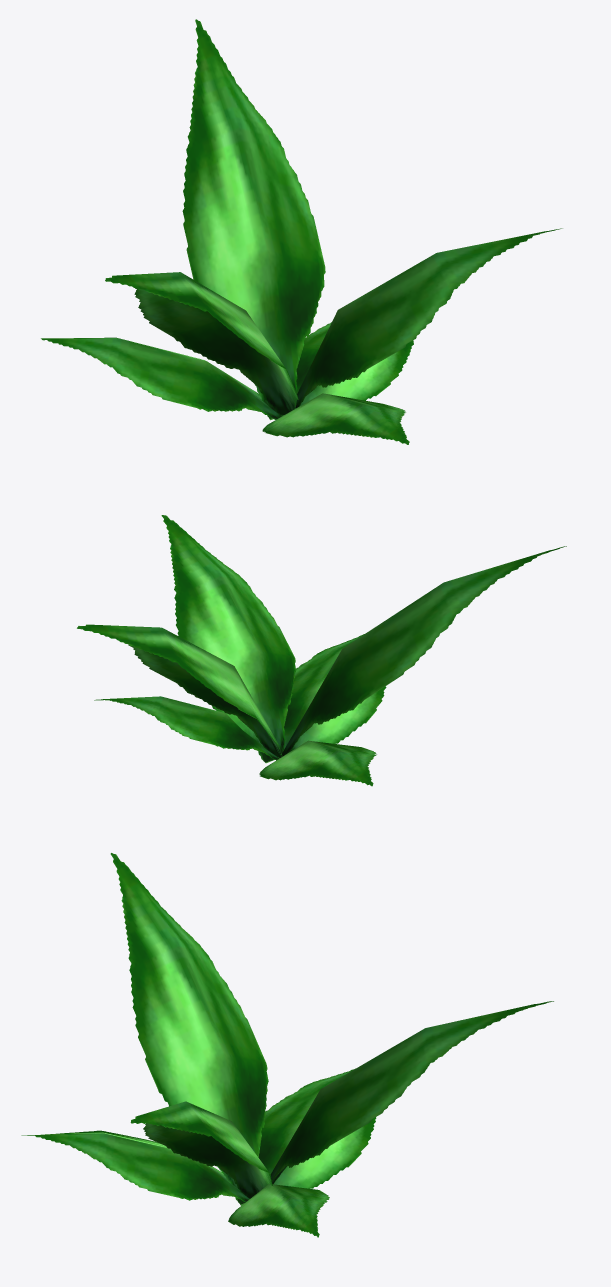
The model's file is INST_EKH_H2O_LILLYA_PLANT_01.fbx.
3 views of the same model, one above another, from view 1: azimuth 30°, elevation 25°; view 2: azimuth 150°, elevation 25°; view 3: azimuth 270°, elevation 25° (orthographic). The views are drawn at different scales.
Parts seen in each view (by area): view 1: INST_EKH_H2O_LILLYA_PLANT_01; view 2: INST_EKH_H2O_LILLYA_PLANT_01; view 3: INST_EKH_H2O_LILLYA_PLANT_01.
Part boxes in pixels (x1,y1,x2,y2): INST_EKH_H2O_LILLYA_PLANT_01: (41,19,562,444); INST_EKH_H2O_LILLYA_PLANT_01: (77,515,566,786); INST_EKH_H2O_LILLYA_PLANT_01: (21,853,553,1237).
Size of the model in its own units: 14482 by 6772 by 14075.
1 material, 1 textured.
